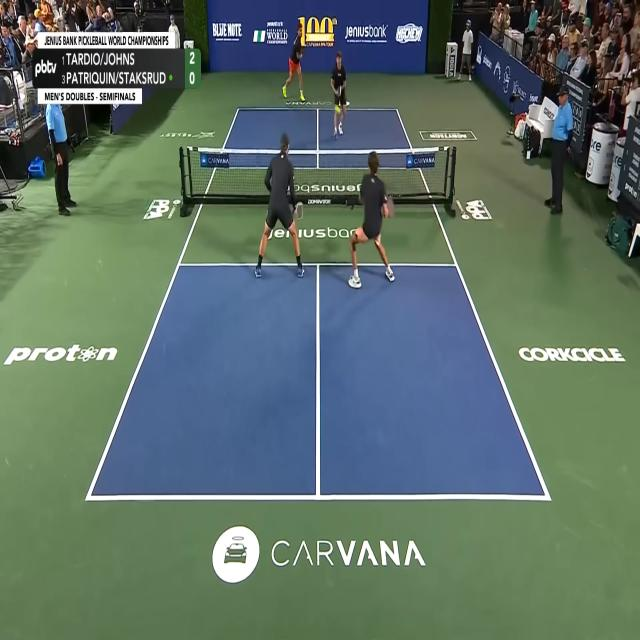ball: (336, 104, 341, 114)
